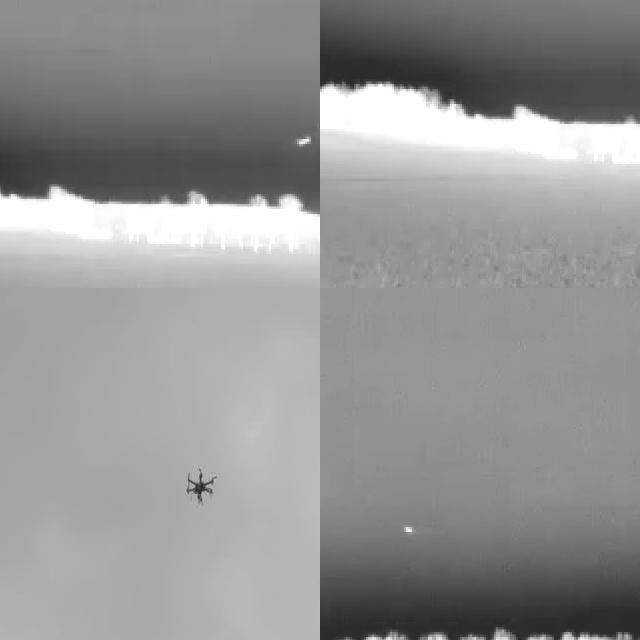1: (284, 124, 320, 164), (400, 516, 422, 538)
drone: (183, 459, 217, 507)
